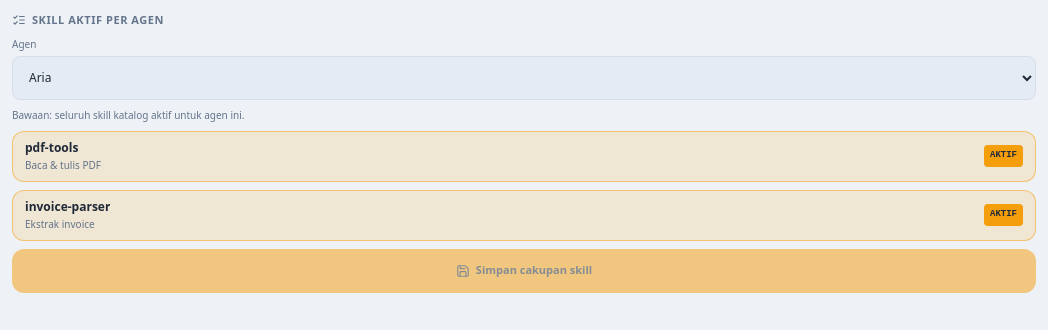
it: AgentSkillScope — sakelar skill per agen › menyimpan daftar LENGKAP skill aktif lewat PATCH dan menampilkan status sukses
Click the switch with test id "agent-skill-toggle-invoice-parser" at (68, 206), box [12, 190, 1036, 240]
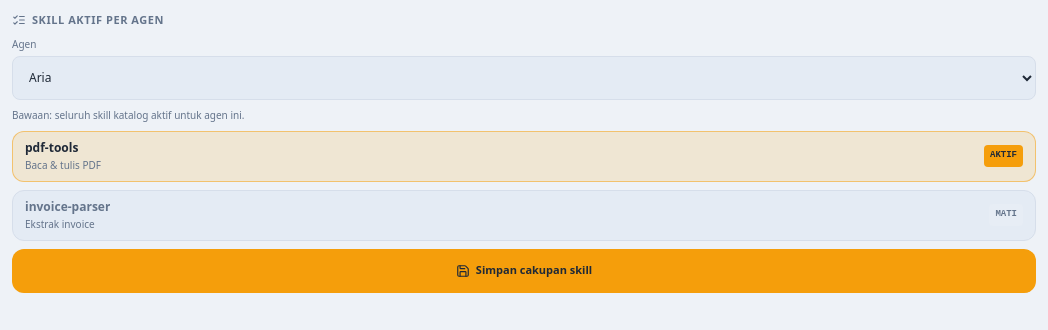
Check: the switch with test id "agent-skill-toggle-invoice-parser" is not checked, box [12, 190, 1036, 240]
Click the button with test id "agent-skill-save" at (524, 270), box [12, 248, 1036, 292]
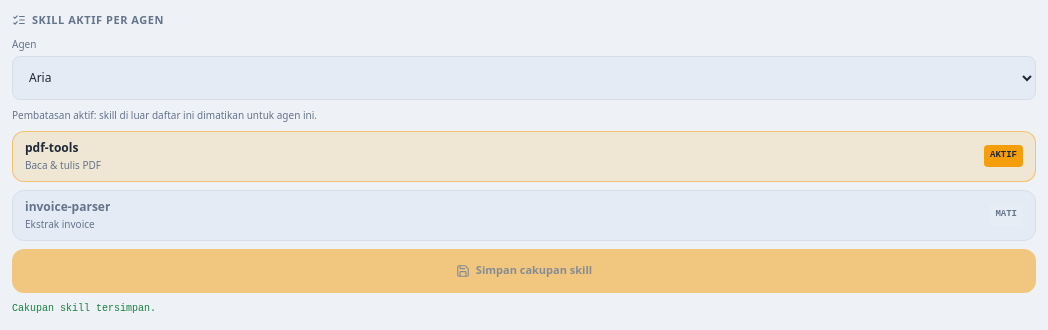
Check: the text with test id "agent-skill-status" shows "tersimpan", box [12, 302, 156, 314]
